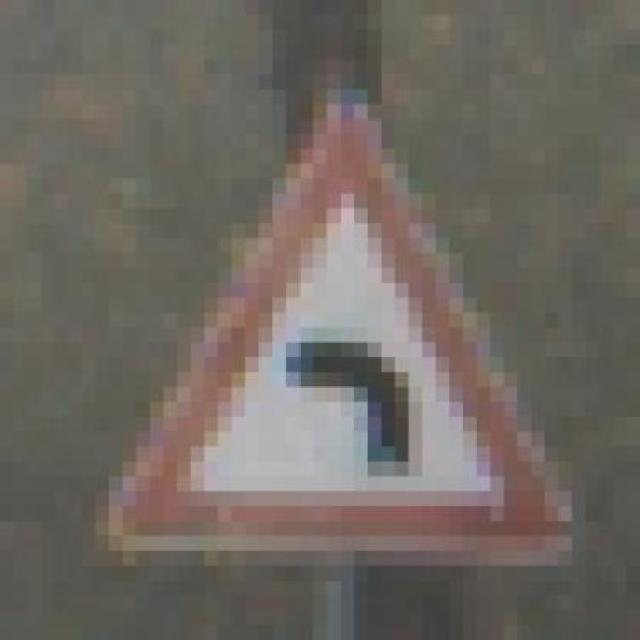Dangerous Left Curve Ahead: (95, 74, 572, 566)
